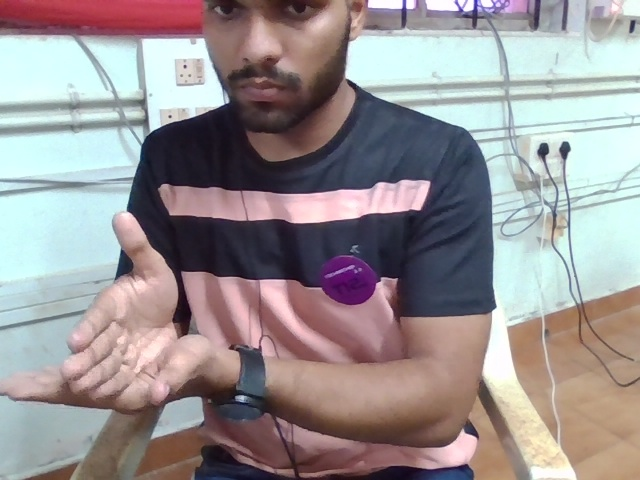stop: (1, 202, 214, 436)
